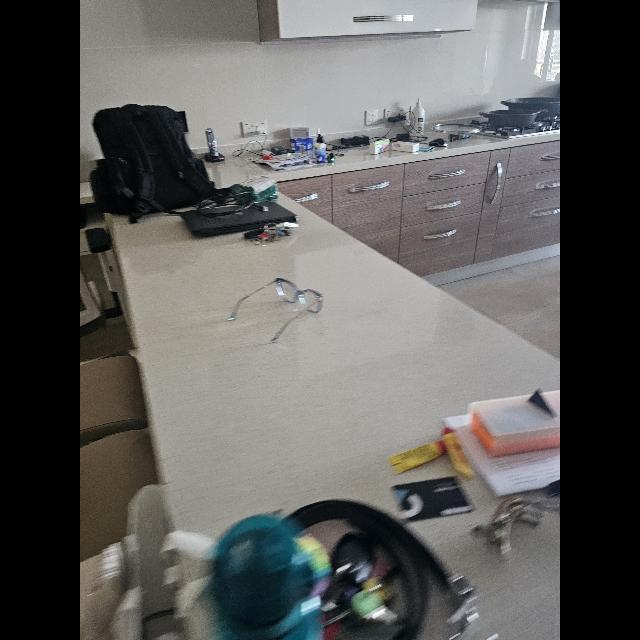glasses: (227, 278, 323, 342)
